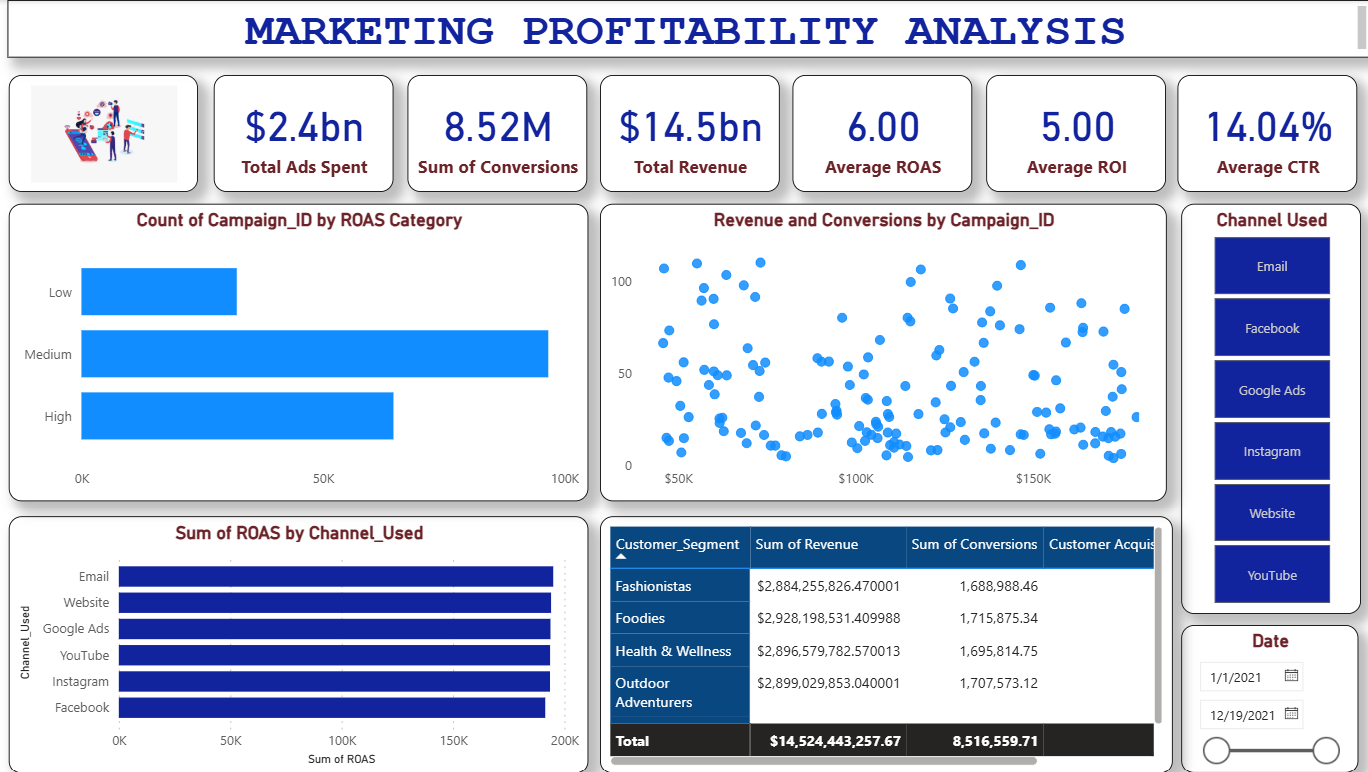

The page's visual inventory and layout, read from the dashboard file:
{"tool":"powerbi","page":{"name":"Profitability Analysis","canvas":[1280,720],"ordinal":2},"visuals":[{"type":"textbox","box":[12.1,0,1267.9,53.5],"z":0},{"type":"image","box":[12.3,70,175.6,108.4],"z":1000},{"type":"card","fields":{"Values":["Sum(marketing_campaign_cleaned.Acquisition_Cost)"]},"box":[203.1,70,167.4,108.4],"z":2000},{"type":"card","fields":{"Values":["Sum(marketing_campaign_cleaned.Conversions)"]},"box":[384.2,70,167.4,108.4],"z":3000},{"type":"card","fields":{"Values":["Sum(marketing_campaign_cleaned.Revenue)"]},"box":[562.6,70,167.4,108.4],"z":4000},{"type":"card","fields":{"Values":["Avg(marketing_campaign_cleaned.ROAS)"]},"box":[742.4,70,167.4,108.4],"z":5000},{"type":"card","fields":{"Values":["Avg(marketing_campaign_cleaned.ROI)"]},"box":[922.1,70,167.4,108.4],"z":6000},{"type":"card","fields":{"Values":["Avg(marketing_campaign_cleaned.Click_Through_Rate)"]},"box":[1100.5,70,167.4,108.4],"z":7000},{"type":"slicer","title":"Channel Used","fields":{"Values":["marketing_campaign_cleaned.Channel_Used"]},"box":[1103.3,189.4,167.4,381.5],"z":8000},{"type":"slicer","title":"Date","fields":{"Values":["DateTable.Date"]},"box":[1103.3,581.4,164.7,138.6],"z":9000},{"type":"clusteredBarChart","fields":{"Category":["marketing_campaign_cleaned.Channel_Used"],"Y":["Sum(marketing_campaign_cleaned.ROAS)"]},"box":[12.3,479.9,539.3,240.1],"z":10000},{"type":"pivotTable","fields":{"Rows":["marketing_campaign_cleaned.Customer_Segment"],"Values":["Sum(marketing_campaign_cleaned.Revenue)","Sum(marketing_campaign_cleaned.Conversions)","marketing_campaign_cleaned.Customer Acquisition Cost (CAC)"]},"box":[562.6,479.9,532.4,240.1],"z":11000},{"type":"clusteredBarChart","fields":{"Category":["marketing_campaign_cleaned.ROAS Category"],"Y":["CountNonNull(marketing_campaign_cleaned.Campaign_ID)"]},"box":[12.3,189.4,539.3,277.2],"z":12000},{"type":"scatterChart","title":"Revenue and Conversions by Campaign_ID","fields":{"Category":["marketing_campaign_cleaned.Campaign_ID"],"X":["Sum(marketing_campaign_cleaned.Revenue)"],"Y":["marketing_campaign_cleaned.Conversions"]},"box":[562.6,189.4,526.9,277.2],"z":13000}]}

Visuals, with their boxes in screenshot pixels (x1, y1, x2, y2), scaled from the page's 1280x720 canvas onto the 1368x772 screenshot:
textbox: locate(13, 0, 1367, 57)
image: locate(13, 75, 201, 191)
card - Sum(marketing_campaign_cleaned.Acquisition_Cost): locate(217, 75, 396, 191)
card - Sum(marketing_campaign_cleaned.Conversions): locate(411, 75, 590, 191)
card - Sum(marketing_campaign_cleaned.Revenue): locate(601, 75, 780, 191)
card - Avg(marketing_campaign_cleaned.ROAS): locate(793, 75, 972, 191)
card - Avg(marketing_campaign_cleaned.ROI): locate(985, 75, 1164, 191)
card - Avg(marketing_campaign_cleaned.Click_Through_Rate): locate(1176, 75, 1355, 191)
"Channel Used" slicer: locate(1179, 203, 1358, 612)
"Date" slicer: locate(1179, 623, 1355, 771)
clusteredBarChart - marketing_campaign_cleaned.Channel_Used x Sum(marketing_campaign_cleaned.ROAS): locate(13, 515, 590, 771)
pivotTable - marketing_campaign_cleaned.Customer_Segment x Sum(marketing_campaign_cleaned.Revenue): locate(601, 515, 1170, 771)
clusteredBarChart - marketing_campaign_cleaned.ROAS Category x CountNonNull(marketing_campaign_cleaned.Campaign_ID): locate(13, 203, 590, 500)
"Revenue and Conversions by Campaign_ID" scatterChart: locate(601, 203, 1164, 500)
